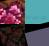lifeC: (0, 0, 25, 24)
